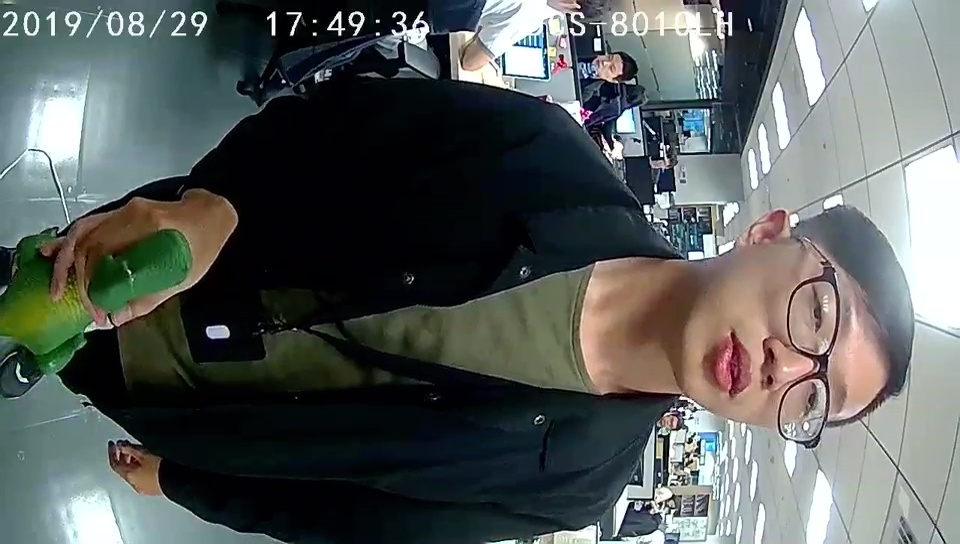rex: (1, 226, 190, 378)
